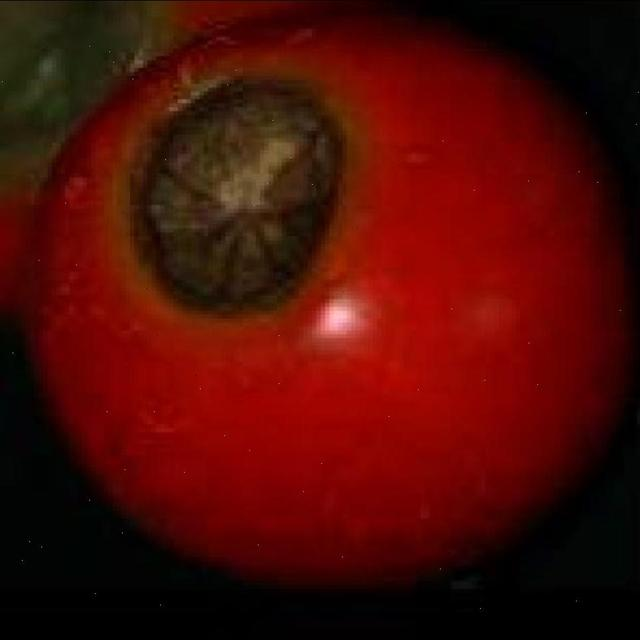Blossom End Rot Fruit: (81, 48, 231, 223)
